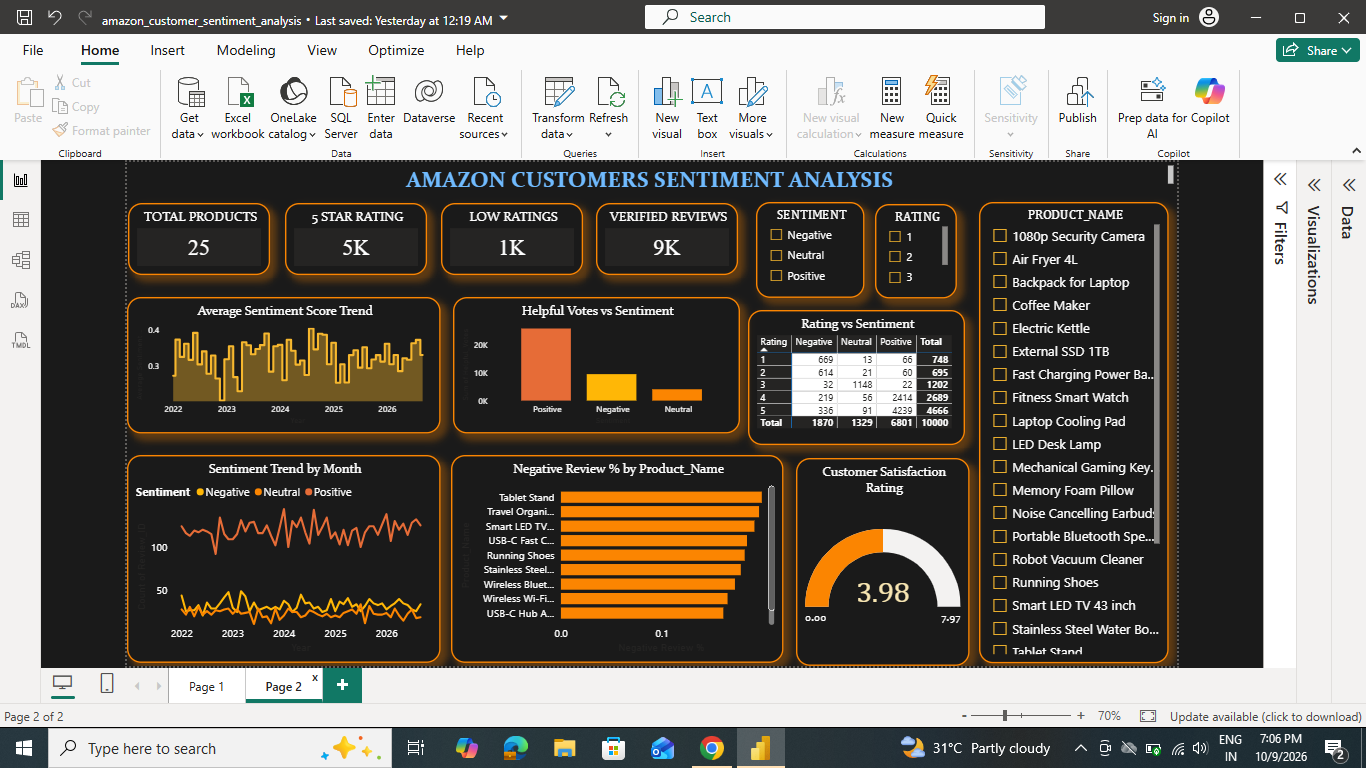

Layout of this report page (visuals, bound fields, positions):
{"tool":"powerbi","page":{"name":"Page 2","canvas":[1500,720],"ordinal":1},"visuals":[{"type":"areaChart","title":"Average Sentiment Score Trend","fields":{"Y":["Reviews.Average Sentiment Score"],"Category":["Reviews.Review_Date.Variation.Date Hierarchy.Year","Reviews.Review_Date.Variation.Date Hierarchy.Month"]},"box":[0,193.3,448.3,195],"z":0},{"type":"clusteredColumnChart","title":"Helpful Votes vs Sentiment","fields":{"Category":["Reviews.Sentiment"],"Y":["Sum(Reviews.Helpful_Votes)"]},"box":[465,193.3,410,195],"z":1000},{"type":"gauge","title":"Customer Satisfaction Rating","fields":{"Y":["Reviews.Average Rating"]},"box":[955,423.3,248.3,296.7],"z":2000},{"type":"lineChart","title":"Sentiment Trend by Month","fields":{"Y":["CountNonNull(amazon_customer_sentiment_cleaned_dashboard.Review_ID)"],"Series":["amazon_customer_sentiment_cleaned_dashboard.Sentiment"],"Category":["Reviews.Review_Date.Variation.Date Hierarchy.Year","Reviews.Review_Date.Variation.Date Hierarchy.Month"]},"box":[0,418.3,448.3,296.7],"z":3000},{"type":"textbox","box":[0,0,1500,41.8],"z":4000},{"type":"cardVisual","title":"TOTAL PRODUCTS","fields":{"Data":["Reviews.Total Products"]},"box":[1.7,58.3,203.3,103.3],"z":5000},{"type":"cardVisual","title":"5 STAR RATING ","fields":{"Data":["Reviews.Five Star Reviews"]},"box":[225,58.3,203.3,103.3],"z":6000},{"type":"cardVisual","title":"LOW RATINGS","fields":{"Data":["Reviews.Low Rating Reviews"]},"box":[448.3,58.3,203.3,103.3],"z":7000},{"type":"slicer","title":"RATING","fields":{"Values":["Reviews.Rating"]},"box":[1068.3,60,116.7,135],"z":8000},{"type":"slicer","title":"SENTIMENT","fields":{"Values":["Reviews.Sentiment"]},"box":[898.3,56.7,155,136.7],"z":9000},{"type":"cardVisual","title":"VERIFIED REVIEWS","fields":{"Data":["Reviews.Verified Reviews"]},"box":[670,58.3,203.3,103.3],"z":10000},{"type":"barChart","fields":{"Y":["Reviews.Negative Review %"],"Category":["Reviews.Product_Name"]},"box":[463.3,418.3,475,296.7],"z":11000},{"type":"pivotTable","title":"Rating vs Sentiment","fields":{"Rows":["Reviews.Rating"],"Columns":["Reviews.Sentiment"],"Values":["Reviews.Total Reviews"]},"box":[886.7,211.7,310,193.3],"z":12000},{"type":"slicer","title":"PRODUCT_NAME","fields":{"Values":["Reviews.Product_Name"]},"box":[1217.1,57.1,271.4,658.6],"z":13000}]}

Visuals, with their boxes on the page's 1500x720 design canvas (x1, y1, x2, y2). These are canvas units, not pixel positions in the 1366x768 screenshot, which may show the page scaled, cropped or inside an application window:
"Average Sentiment Score Trend" areaChart: 0,193,448,388
"Helpful Votes vs Sentiment" clusteredColumnChart: 465,193,875,388
"Customer Satisfaction Rating" gauge: 955,423,1203,720
"Sentiment Trend by Month" lineChart: 0,418,448,715
textbox: 0,0,1500,42
"TOTAL PRODUCTS" cardVisual: 2,58,205,162
"5 STAR RATING " cardVisual: 225,58,428,162
"LOW RATINGS" cardVisual: 448,58,652,162
"RATING" slicer: 1068,60,1185,195
"SENTIMENT" slicer: 898,57,1053,193
"VERIFIED REVIEWS" cardVisual: 670,58,873,162
barChart - Reviews.Negative Review % x Reviews.Product_Name: 463,418,938,715
"Rating vs Sentiment" pivotTable: 887,212,1197,405
"PRODUCT_NAME" slicer: 1217,57,1488,716
